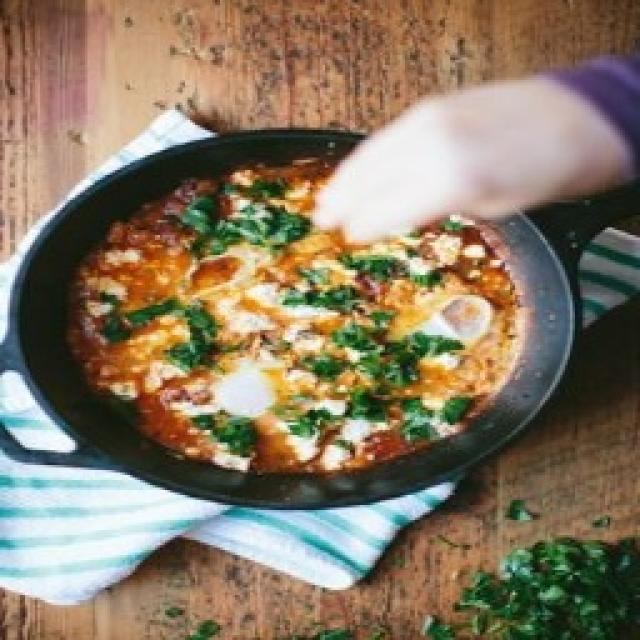Chakchouka: (65, 145, 545, 508)
